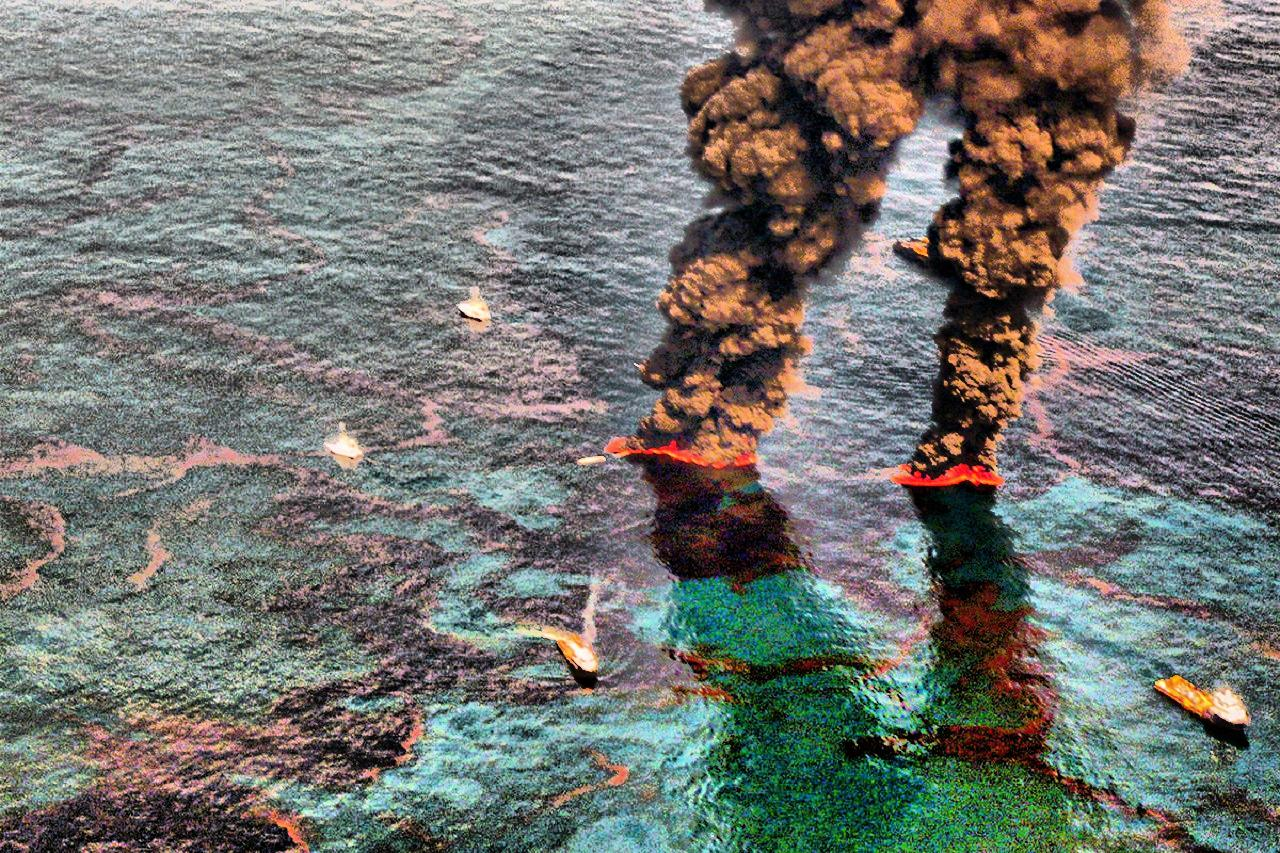truecolor: (0, 535, 536, 850), (330, 477, 673, 692), (636, 458, 809, 585)
